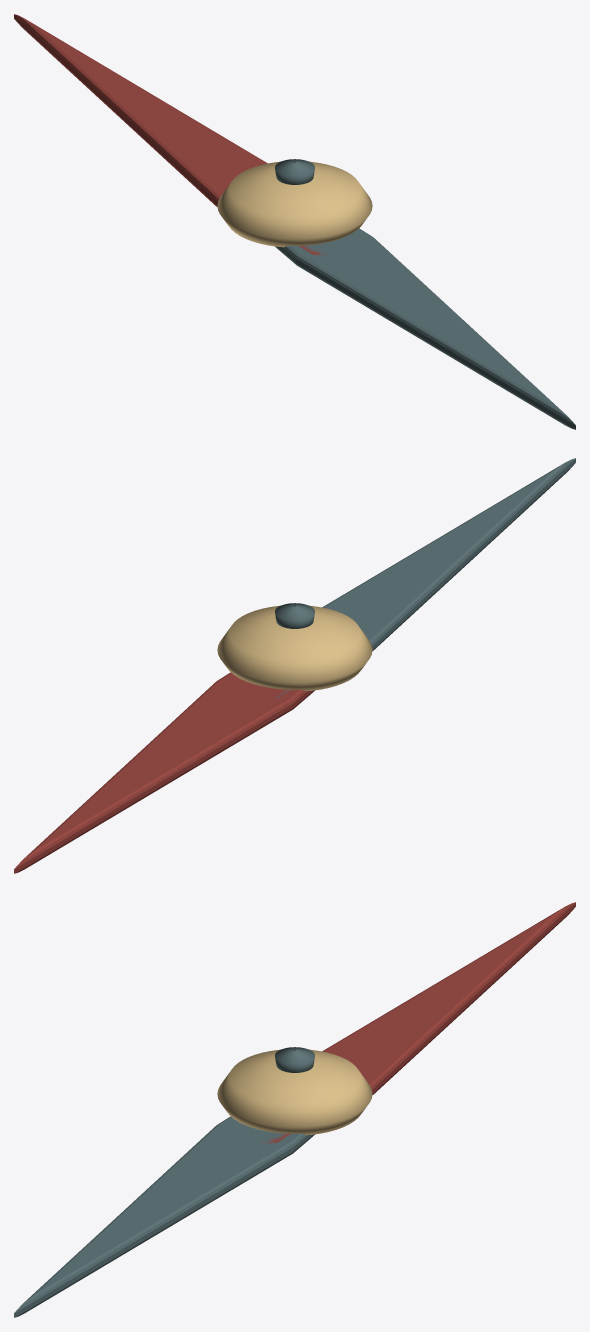
The model's file is compass-needle.glb.
The picture shows the model from 3 angles, top to bottom: view 1: azimuth 30°, elevation 25°; view 2: azimuth 150°, elevation 25°; view 3: azimuth 330°, elevation 25°; orthographic projection.
Parts seen in each view (by area): view 1: South pointer, North pointer, Needle bearing, Bearing pin; view 2: North pointer, South pointer, Needle bearing, Bearing pin; view 3: South pointer, North pointer, Needle bearing, Bearing pin.
Part boxes in pixels (<box>): South pointer: <box>275,228,575,429</box>; North pointer: <box>14,14,328,255</box>; Needle bearing: <box>217,161,372,247</box>; Bearing pin: <box>275,159,314,184</box>; North pointer: <box>14,672,314,873</box>; South pointer: <box>273,458,575,698</box>; Needle bearing: <box>217,605,372,691</box>; Bearing pin: <box>275,603,314,628</box>; South pointer: <box>14,1116,314,1317</box>; North pointer: <box>262,902,575,1143</box>; Needle bearing: <box>217,1049,372,1135</box>; Bearing pin: <box>275,1047,314,1072</box>.
Size of the model in its own units: 0.154 by 0.072 by 1.12.
